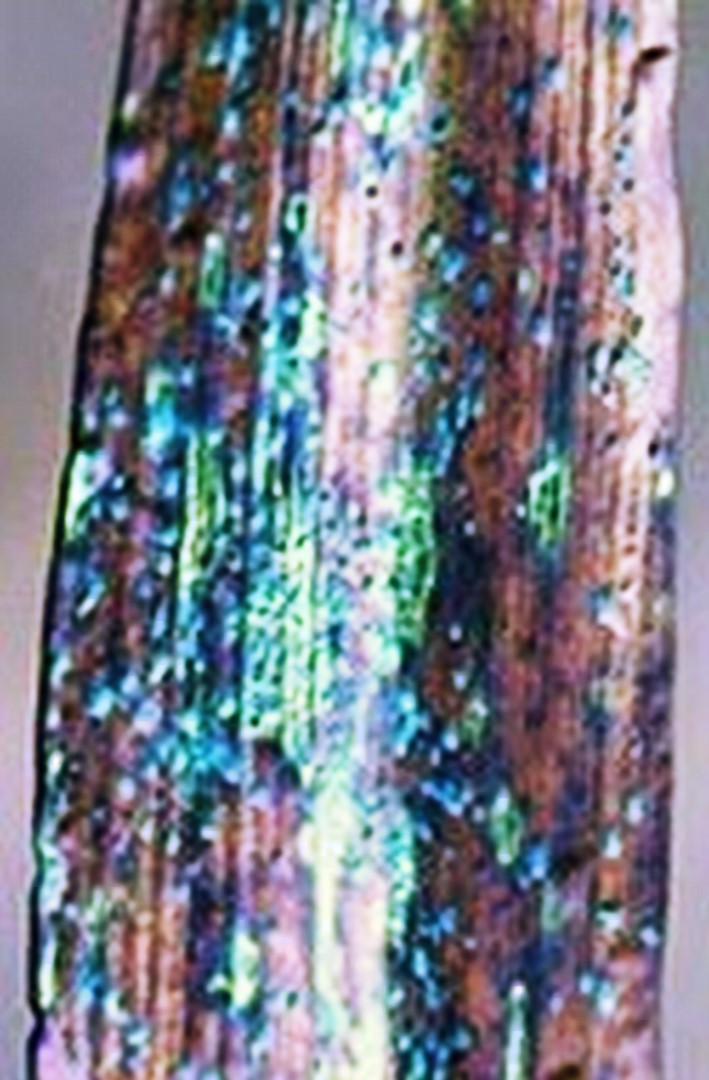Leaf Rust: (24, 159, 692, 1013)
